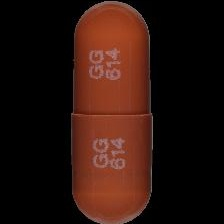0615-1354: (0, 0, 224, 224)
